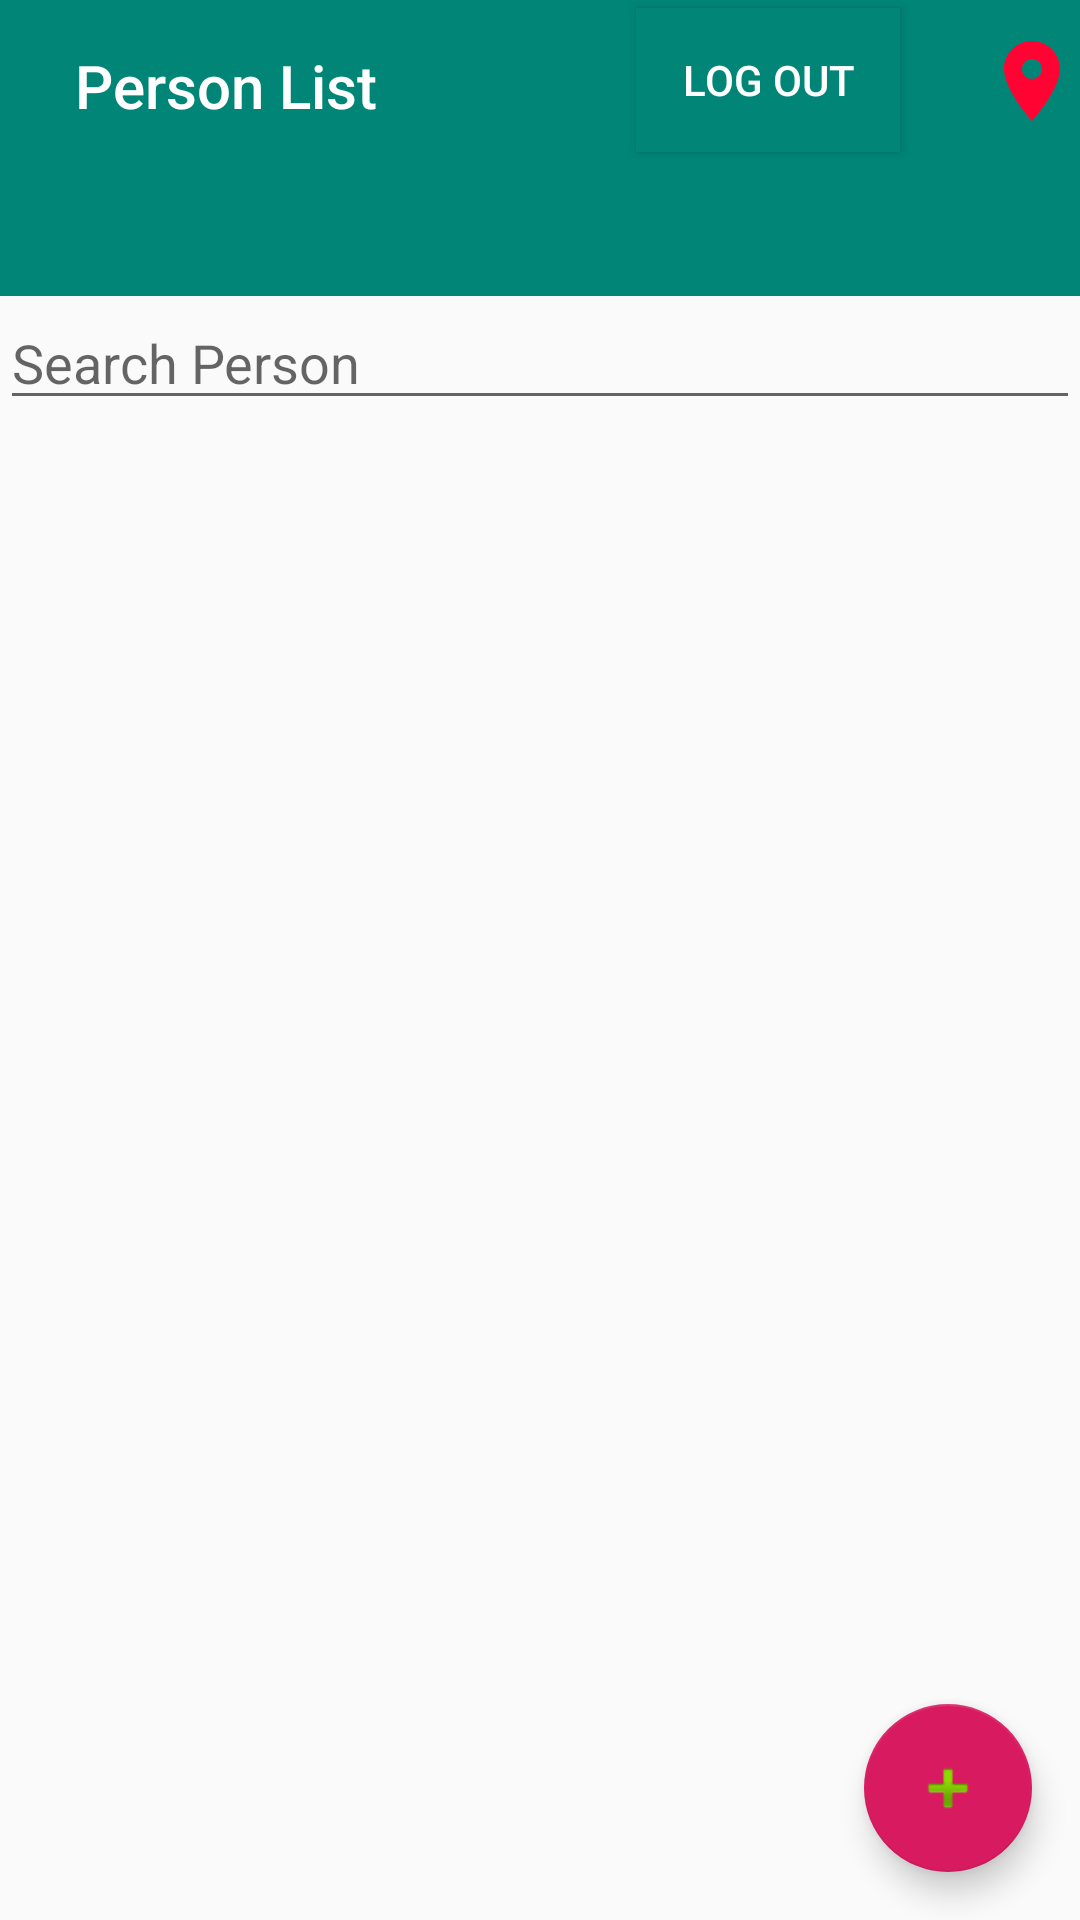

Where to tap for icons on this 1080px×1920px app screen, as [x,y]:
add: [948,1788]
location: [1032,81]
